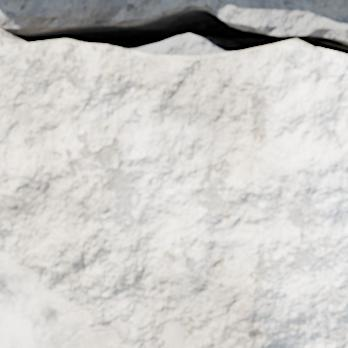brick: (0, 30, 347, 347)
crack: (2, 0, 347, 55)
